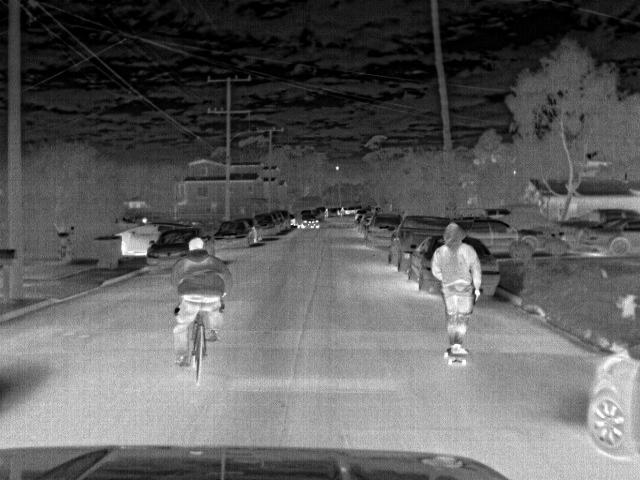car: (588, 356, 638, 462), (553, 207, 638, 250), (386, 213, 436, 269), (468, 219, 547, 253), (463, 236, 503, 300), (577, 218, 639, 256), (113, 223, 179, 257), (144, 228, 193, 271), (406, 236, 439, 292), (211, 218, 253, 252), (364, 213, 406, 247), (249, 213, 275, 235), (482, 206, 513, 220), (294, 214, 323, 228), (273, 210, 292, 231), (357, 213, 374, 233), (271, 210, 285, 232)
person: (172, 236, 226, 370), (431, 222, 481, 356)
